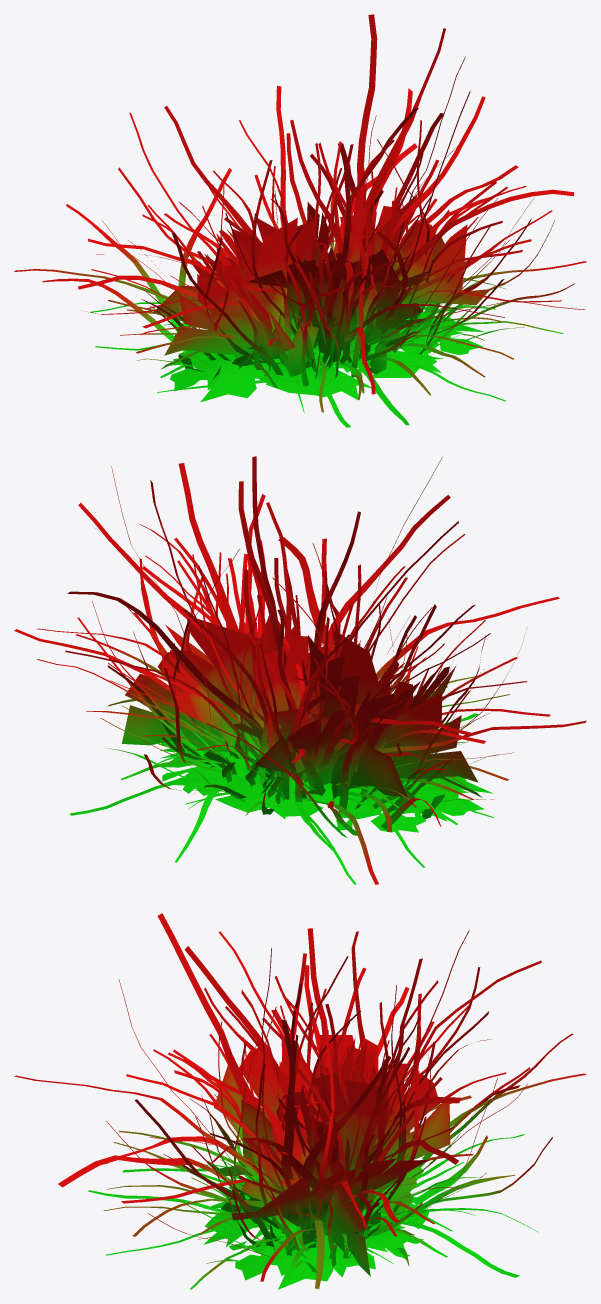
File: Wild Grass_LOD1_Var1_vczndjqja.fbx
3 renders of one model, top to bottom at view 1: azimuth 30°, elevation 25°; view 2: azimuth 150°, elevation 25°; view 3: azimuth 270°, elevation 25°, orthographic. The views are drawn at different scales.
Visible parts, largest first — view 1: _ia12_Var1_LOD1; view 2: _ia12_Var1_LOD1; view 3: _ia12_Var1_LOD1.
Part boxes in pixels (box(x1,y1,x2,y2)): _ia12_Var1_LOD1: box(14, 14, 586, 427); _ia12_Var1_LOD1: box(14, 456, 586, 884); _ia12_Var1_LOD1: box(14, 913, 586, 1289).
Size of the model in its own units: 158 by 90.24 by 149.
